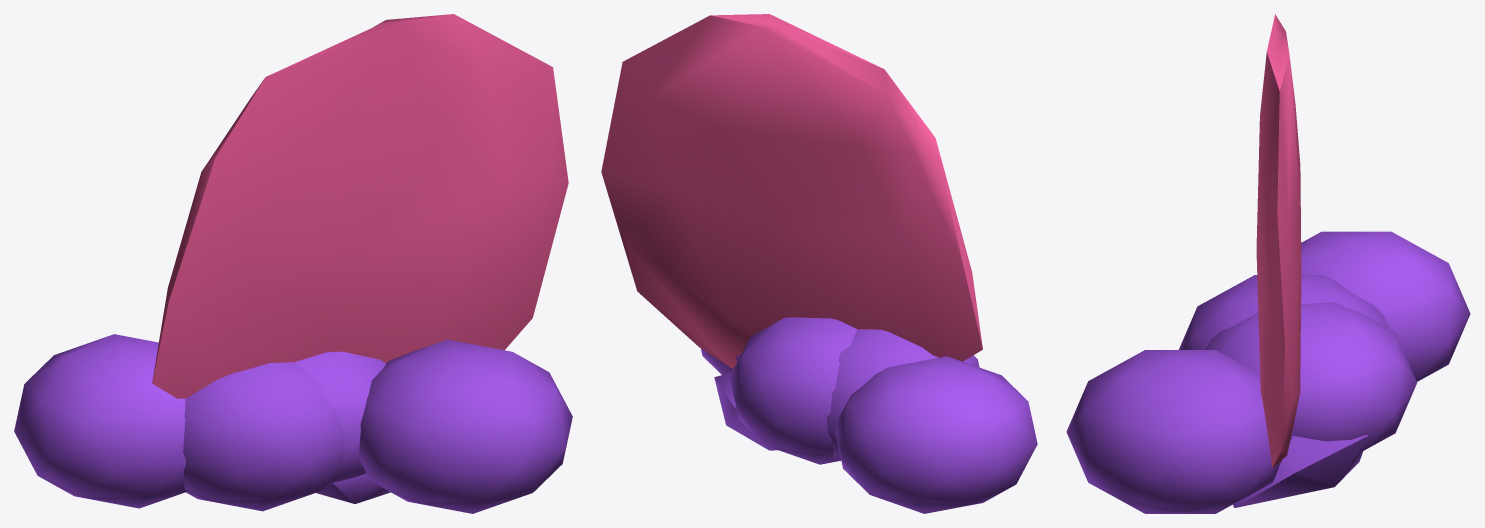
Rendered from mu_coral_fan.fbx.
3 renders of one model, left to right at view 1: azimuth 30°, elevation 25°; view 2: azimuth 150°, elevation 25°; view 3: azimuth 270°, elevation 25°, orthographic. The views are drawn at different scales.
Parts seen in each view (by area): view 1: mu_coral_fan; view 2: mu_coral_fan; view 3: mu_coral_fan.
Part boxes in pixels (x1,y1,x2,y2): mu_coral_fan: [14, 14, 572, 513]; mu_coral_fan: [601, 14, 1037, 513]; mu_coral_fan: [1066, 14, 1470, 513].
Size of the model in its own units: 3.01 by 2.68 by 2.13.
Materials: 2 (2 with a texture image).
